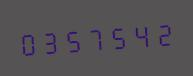five: (61, 22, 82, 56), (105, 19, 126, 53)
four: (127, 17, 148, 52)
seven: (83, 20, 104, 55)
three: (39, 24, 60, 58)
two: (149, 16, 170, 50)
zero: (17, 25, 38, 59)
